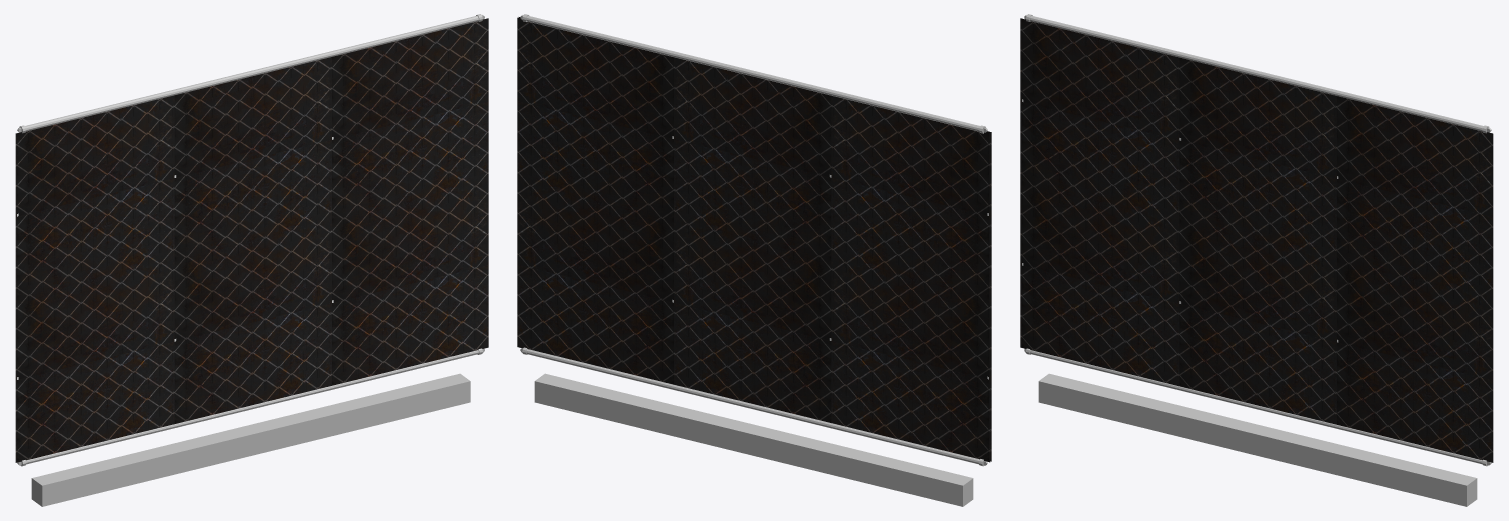
The model's file is SM_Metal_Fence_02.fbx.
3 views of the same model, side by side, from view 1: azimuth 30°, elevation 25°; view 2: azimuth 150°, elevation 25°; view 3: azimuth 330°, elevation 25° (orthographic).
Visible parts, largest first — view 1: SM_Metal_Fence_02; view 2: SM_Metal_Fence_02; view 3: SM_Metal_Fence_02.
Part boxes in pixels (x1,y1,x2,y2): SM_Metal_Fence_02: (15,14,488,506); SM_Metal_Fence_02: (517,14,991,506); SM_Metal_Fence_02: (1020,14,1493,506).
Bounding box in the file's own units: 392 × 301 × 14.88.
